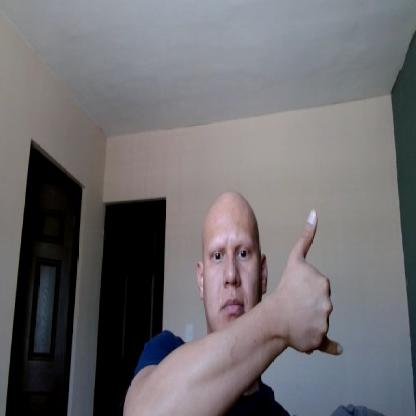Y: (283, 207, 345, 357)
